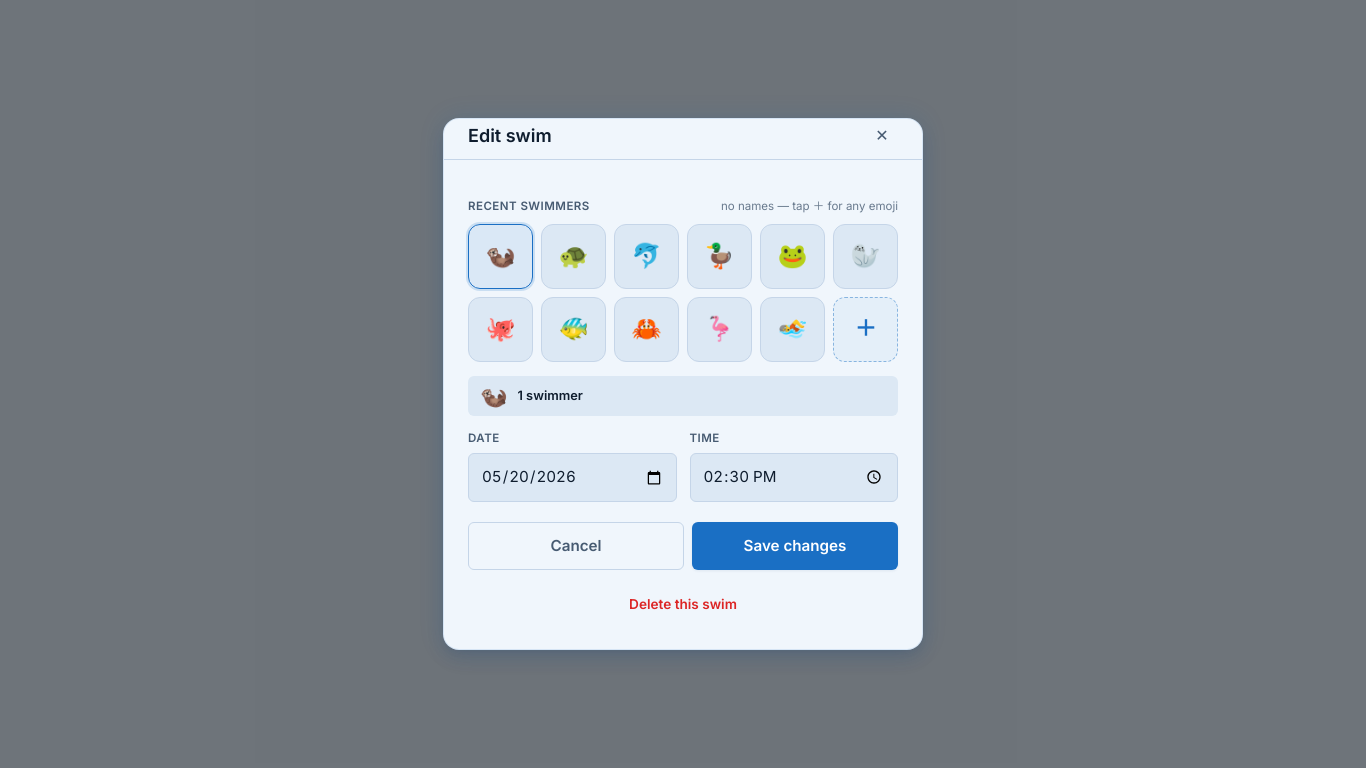
Test: SwimLogForm › delete flow › "Keep" cancels the confirm panel
The image size is (1366, 768).
Click the button "Delete this swim".
click(683, 605)  # box [468,584,898,625]
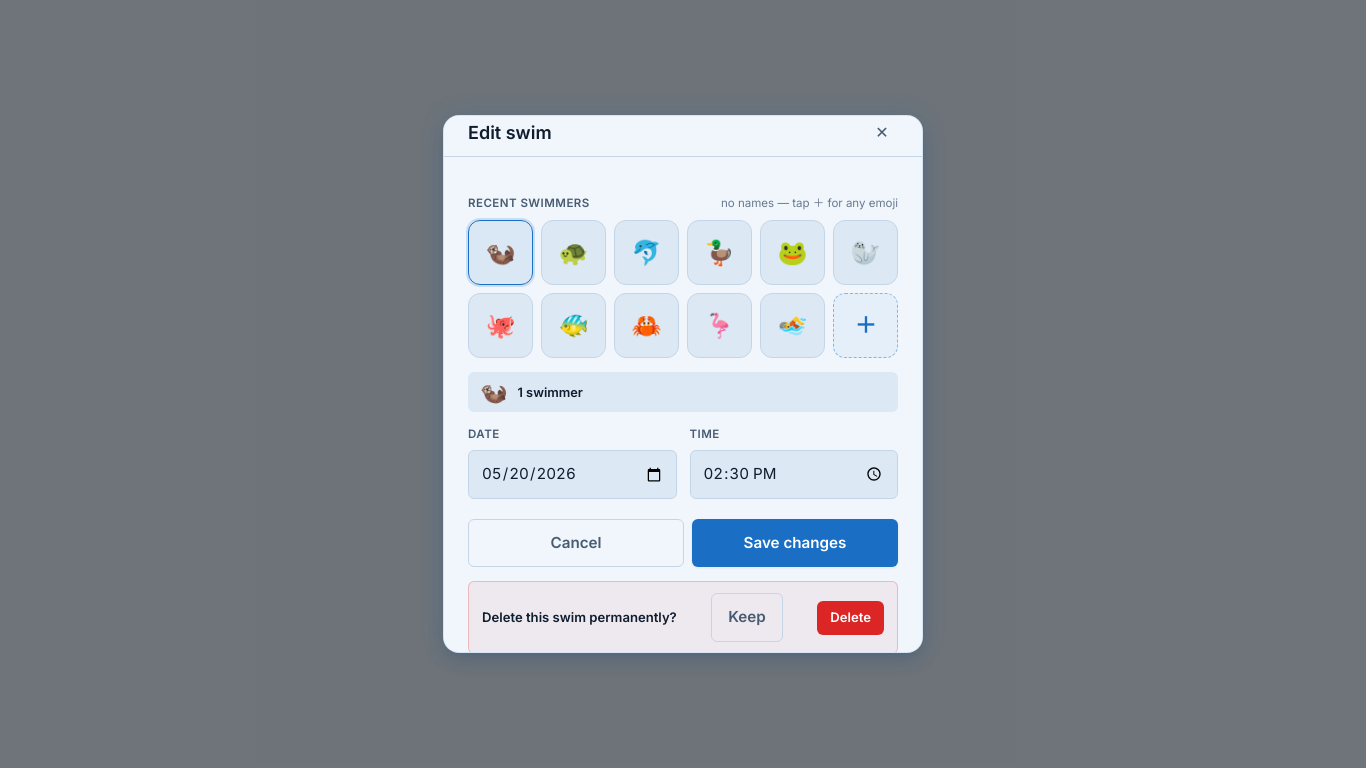
Click the button "Keep".
click(747, 618)  # box [711,593,783,642]
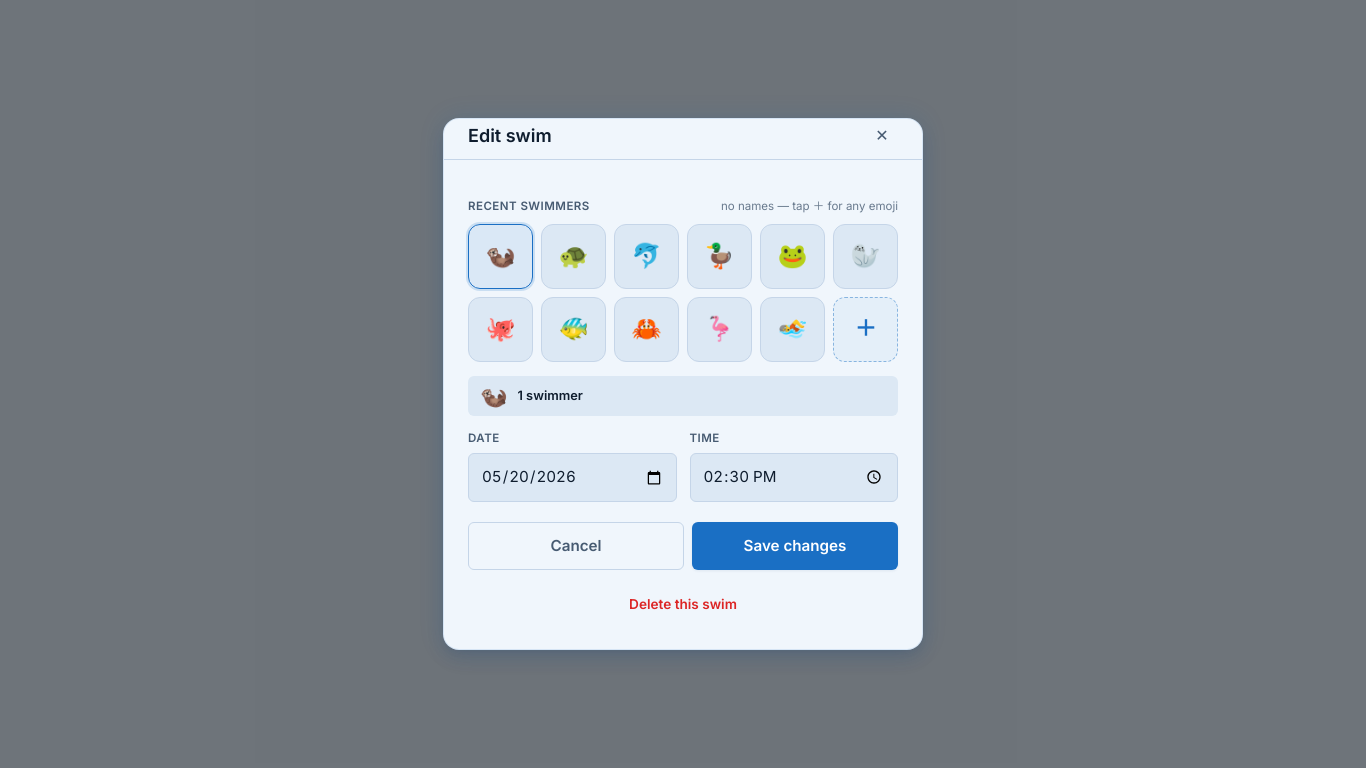
Expected: the button "Delete this swim" is shown, [468,584,898,625]
Now the text "Delete this swim permanently?" is gone
